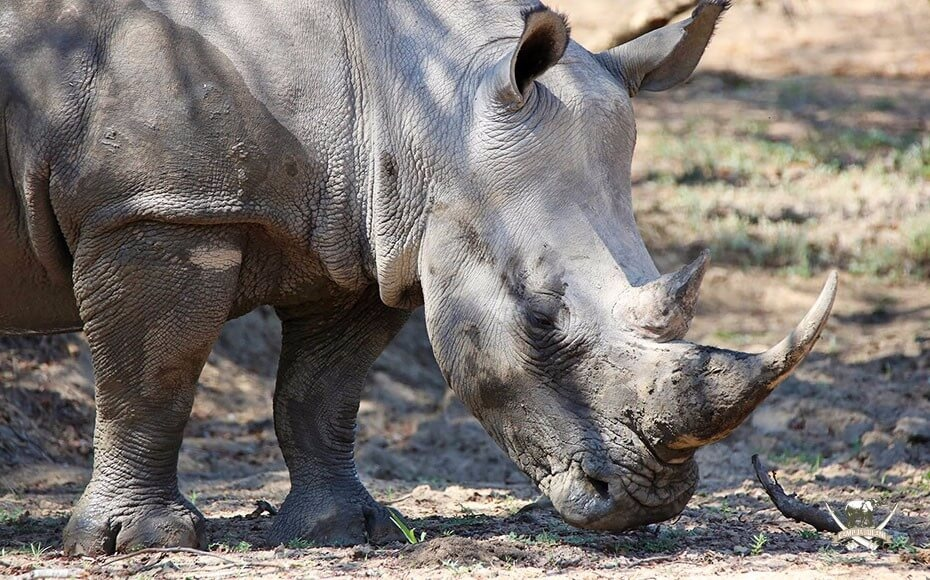rhino: (1, 0, 837, 552)
